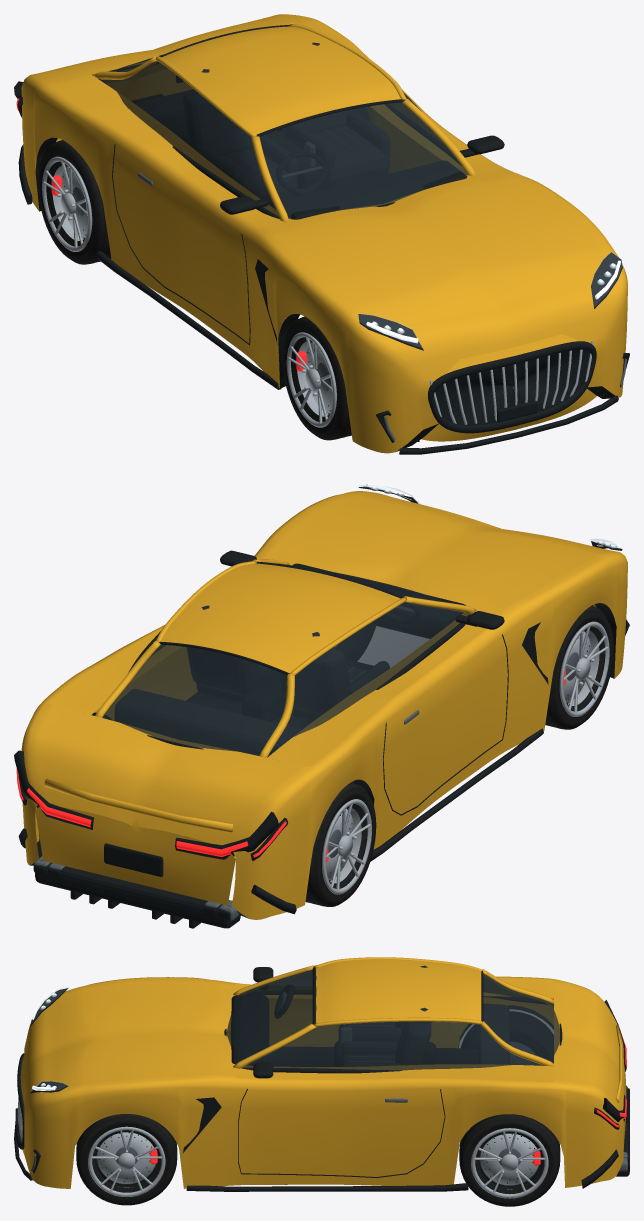
The model's file is garage-gt.glb.
3 views of the same model, one above another, from view 1: azimuth 30°, elevation 25°; view 2: azimuth 150°, elevation 25°; view 3: azimuth 270°, elevation 25° (orthographic). The views are drawn at different scales.
Parts seen in each view (by area): view 1: BodyPaint, BlackTrim, door_FR, BodyPaint.001, TintedGlass.001, StitchedLeather, TintedGlass, door_FL, Tire.002, Tire, boot, Alloy (+6 smaller); view 2: BodyPaint, TintedGlass, boot, door_FR, BodyPaint.001, BlackTrim, StitchedLeather, Tire.002, door_FL, Tire, Alloy, Alloy.002 (+6 smaller); view 3: BodyPaint, door_FL, TintedGlass, BodyPaint.001, BlackTrim, boot, TintedGlass.001, Tire.003, Tire.001, StitchedLeather, door_FR, Alloy.003 (+7 smaller).
Boxes of the visible parts, x1=… form: BodyPaint: x1=21, y1=14, x2=627, y2=453; BlackTrim: x1=14, y1=75, x2=629, y2=454; door_FR: x1=121, y1=93, x2=296, y2=339; BodyPaint.001: x1=93, y1=23, x2=406, y2=136; TintedGlass.001: x1=260, y1=102, x2=467, y2=218; StitchedLeather: x1=137, y1=42, x2=389, y2=205; TintedGlass: x1=102, y1=54, x2=446, y2=216; door_FL: x1=350, y1=89, x2=504, y2=173; Tire.002: x1=38, y1=140, x2=111, y2=264; Tire: x1=282, y1=316, x2=351, y2=440; boot: x1=57, y1=21, x2=268, y2=104; Alloy: x1=286, y1=332, x2=336, y2=427; BodyPaint: x1=21, y1=491, x2=627, y2=919; TintedGlass: x1=102, y1=601, x2=468, y2=755; boot: x1=38, y1=685, x2=309, y2=847; door_FR: x1=330, y1=597, x2=519, y2=814; BodyPaint.001: x1=95, y1=560, x2=406, y2=757; BlackTrim: x1=14, y1=486, x2=629, y2=928; StitchedLeather: x1=122, y1=605, x2=380, y2=738; Tire.002: x1=305, y1=782, x2=376, y2=906; door_FL: x1=122, y1=550, x2=289, y2=704; Tire: x1=545, y1=605, x2=613, y2=729; Alloy: x1=559, y1=621, x2=609, y2=716; Alloy.002: x1=322, y1=799, x2=371, y2=894; BodyPaint: x1=20, y1=965, x2=626, y2=1188; door_FL: x1=223, y1=1029, x2=432, y2=1164; TintedGlass: x1=244, y1=972, x2=560, y2=1070; BodyPaint.001: x1=313, y1=957, x2=553, y2=1066; BlackTrim: x1=14, y1=967, x2=629, y2=1191; boot: x1=500, y1=994, x2=623, y2=1113; TintedGlass.001: x1=226, y1=969, x2=312, y2=1060; Tire.003: x1=459, y1=1114, x2=560, y2=1206; Tire.001: x1=76, y1=1114, x2=177, y2=1205; StitchedLeather: x1=339, y1=965, x2=500, y2=1066; door_FR: x1=246, y1=967, x2=432, y2=1052; Alloy.003: x1=471, y1=1128, x2=548, y2=1198.
Size of the model in its own units: 2.08 by 1.49 by 4.89.
Materials: 12 (1 with a texture image).
